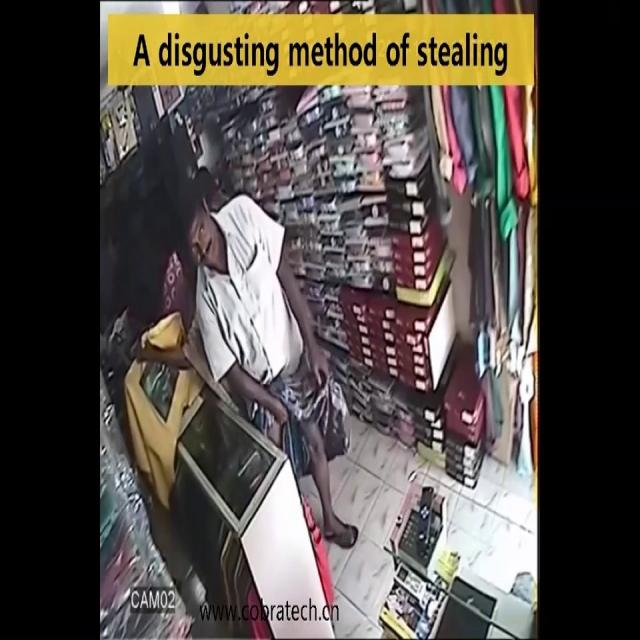shoplifting: (183, 129, 369, 589)
